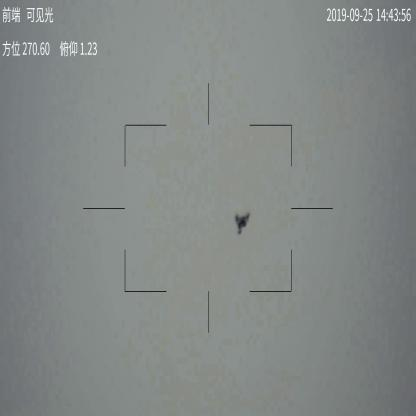uav: (234, 211, 252, 235)
